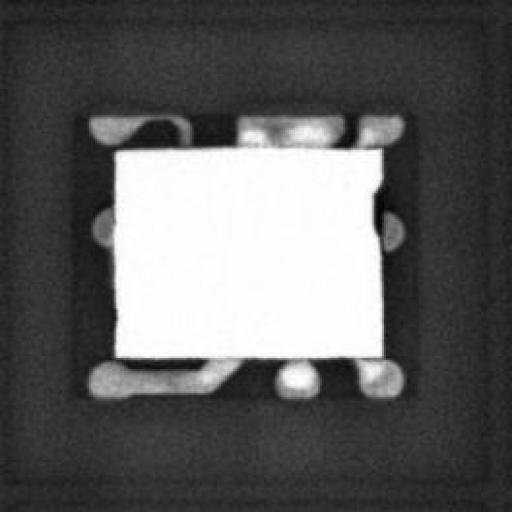DIE_BROKEN: (367, 174, 382, 240)
